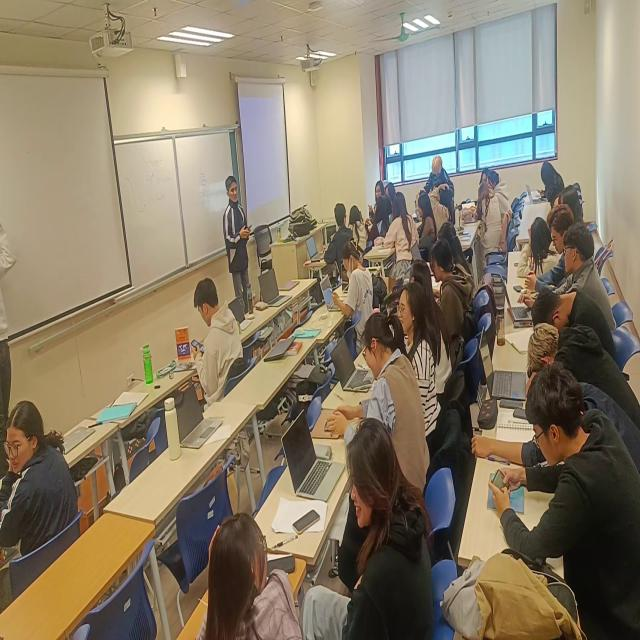raise_head: (340, 426, 410, 565), (394, 281, 430, 338), (562, 225, 597, 283), (416, 194, 436, 240), (372, 178, 389, 207)
read: (320, 317, 413, 438)
sleep: (526, 324, 603, 381), (535, 286, 611, 341)
stand: (225, 176, 256, 311)
using_computer: (505, 208, 575, 330), (322, 245, 369, 321), (527, 161, 563, 213)
using_phone: (493, 367, 597, 529), (191, 284, 238, 372)
